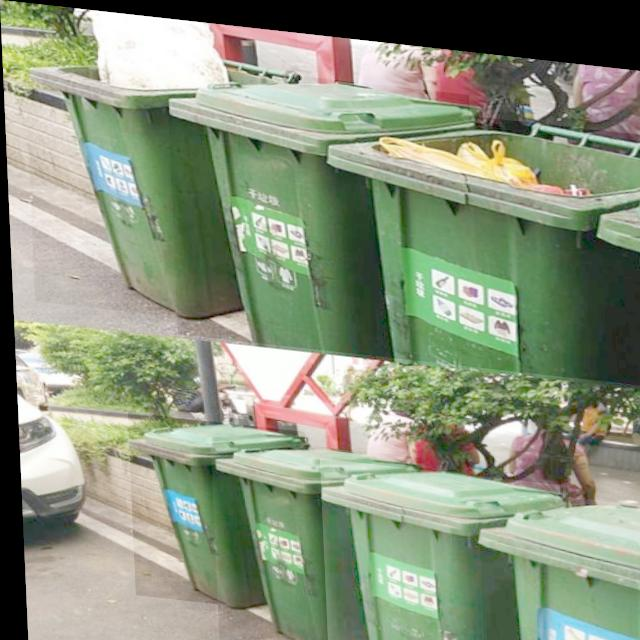garbage_bin: (165, 57, 478, 357), (316, 451, 563, 640), (206, 430, 425, 640), (124, 410, 307, 608), (473, 476, 640, 640)
overflow: (22, 2, 307, 325), (323, 93, 640, 372)
